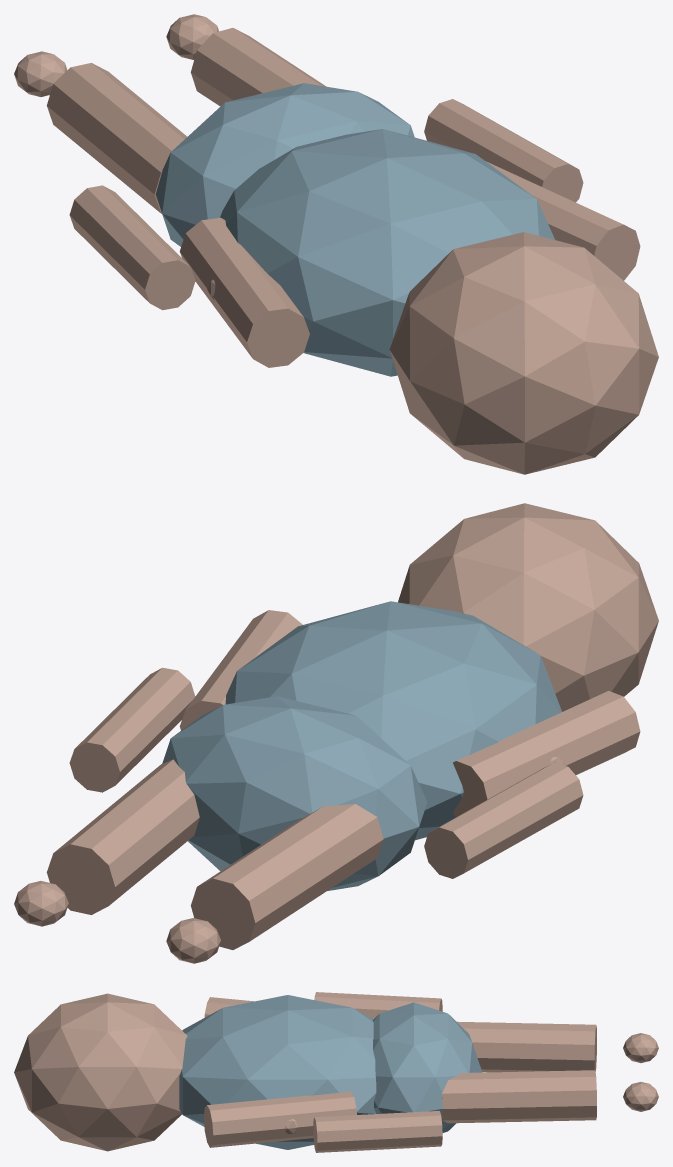
Rendered from newborn-low.glb.
3 renders of one model, top to bottom at view 1: azimuth 30°, elevation 25°; view 2: azimuth 150°, elevation 25°; view 3: azimuth 270°, elevation 25°, orthographic. The views are drawn at different scales.
Visible parts, largest first — view 1: head, torso, pelvis, left_thigh, left_upper_arm, left_forearm, right_forearm, right_thigh, right_upper_arm, left_leg, right_leg; view 2: torso, head, pelvis, left_thigh, right_thigh, left_upper_arm, left_forearm, right_forearm, right_upper_arm, right_leg, left_leg; view 3: head, torso, pelvis, right_thigh, left_thigh, right_upper_arm, right_forearm, left_forearm, left_leg, right_leg, left_upper_arm.
Part boxes in pixels (bbox=[...]): head: bbox=[389, 232, 658, 474]; torso: bbox=[220, 129, 554, 376]; pelvis: bbox=[155, 83, 414, 246]; left_thigh: bbox=[46, 63, 187, 213]; left_upper_arm: bbox=[179, 217, 309, 367]; left_forearm: bbox=[69, 185, 195, 310]; right_forearm: bbox=[424, 99, 583, 202]; right_thigh: bbox=[190, 28, 325, 106]; right_upper_arm: bbox=[486, 161, 640, 280]; left_leg: bbox=[14, 51, 67, 96]; right_leg: bbox=[166, 14, 218, 59]; torso: bbox=[225, 601, 561, 840]; head: bbox=[398, 503, 658, 711]; pelvis: bbox=[162, 696, 427, 890]; left_thigh: bbox=[190, 804, 383, 949]; right_thigh: bbox=[46, 759, 199, 914]; left_upper_arm: bbox=[453, 691, 640, 816]; left_forearm: bbox=[424, 762, 583, 878]; right_forearm: bbox=[69, 667, 195, 792]; right_upper_arm: bbox=[179, 610, 302, 730]; right_leg: bbox=[14, 881, 68, 926]; left_leg: bbox=[166, 918, 220, 963]; head: bbox=[14, 993, 187, 1151]; torso: bbox=[179, 995, 376, 1149]; pelvis: bbox=[373, 1002, 482, 1132]; right_thigh: bbox=[442, 1070, 596, 1123]; left_thigh: bbox=[457, 1021, 596, 1072]; right_upper_arm: bbox=[204, 1091, 356, 1147]; right_forearm: bbox=[313, 1111, 442, 1152]; left_forearm: bbox=[314, 992, 442, 1018]; left_leg: bbox=[623, 1033, 658, 1062]; right_leg: bbox=[623, 1082, 658, 1111]; left_upper_arm: bbox=[204, 997, 253, 1017].
Size of the model in its own units: 1.84 by 0.86 by 3.58.
